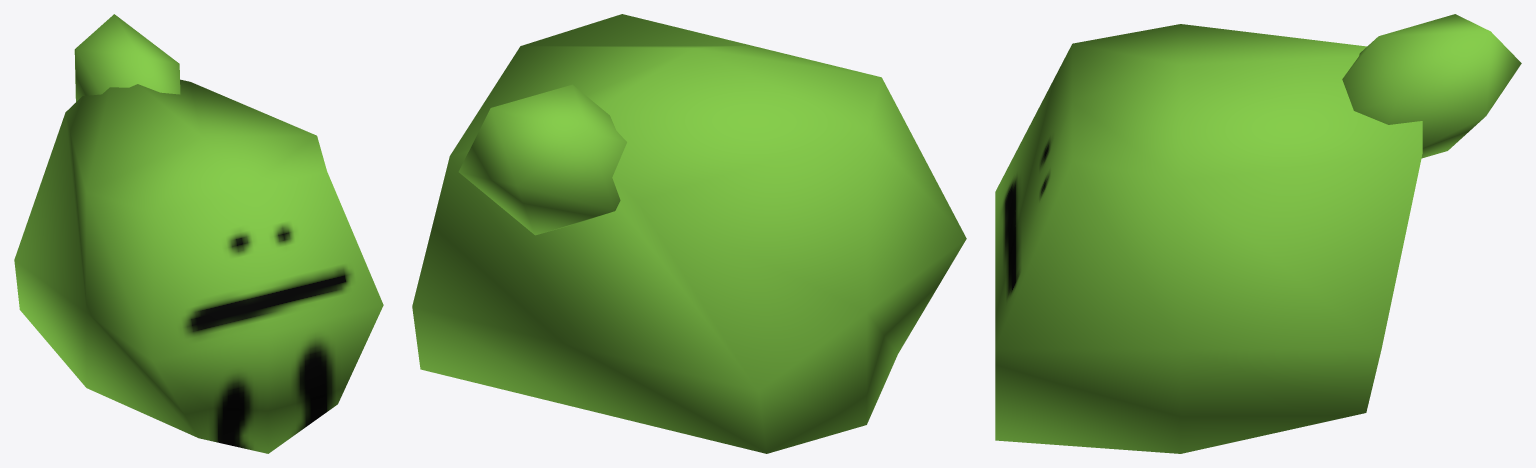
The model's file is jalapeno.gltf.
The picture shows the model from 3 angles, left to right: view 1: azimuth 30°, elevation 25°; view 2: azimuth 150°, elevation 25°; view 3: azimuth 270°, elevation 25°; orthographic projection. The views are drawn at different scales.
Visible parts, largest first — view 1: Cube; view 2: Cube; view 3: Cube.
Boxes of the visible parts, left/top/right/bottom form: Cube: left=14, top=14, right=383, bottom=453; Cube: left=412, top=14, right=966, bottom=453; Cube: left=995, top=14, right=1521, bottom=453.
Size of the model in its own units: 2 by 2.52 by 2.84.
Materials: 1 (1 with a texture image).
